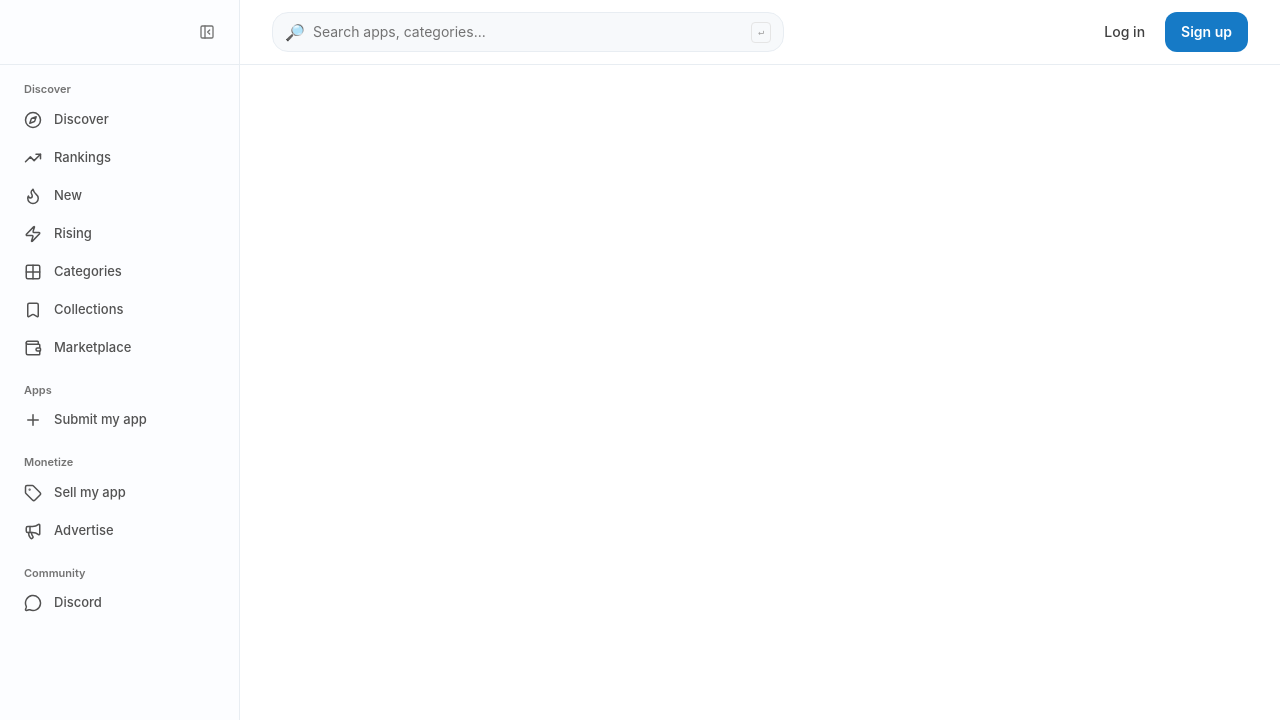
Test case: Sidebar destinations › places the collapse control in the logo row and keeps expansion available
Click the button named "Collapse sidebar": click(207, 32) x1=191 y1=16 x2=223 y2=48
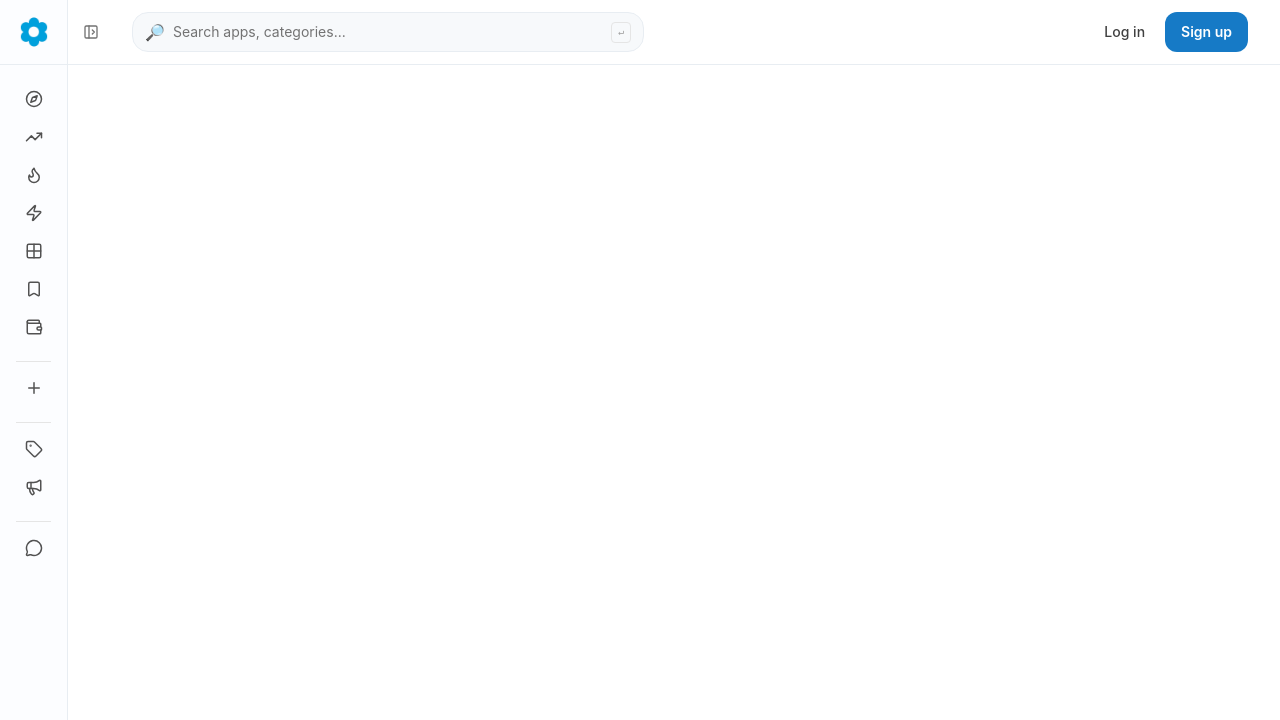
Check: the button named "Expand sidebar" has class "left-full"
Click the button named "Expand sidebar": click(91, 32) x1=75 y1=16 x2=107 y2=48
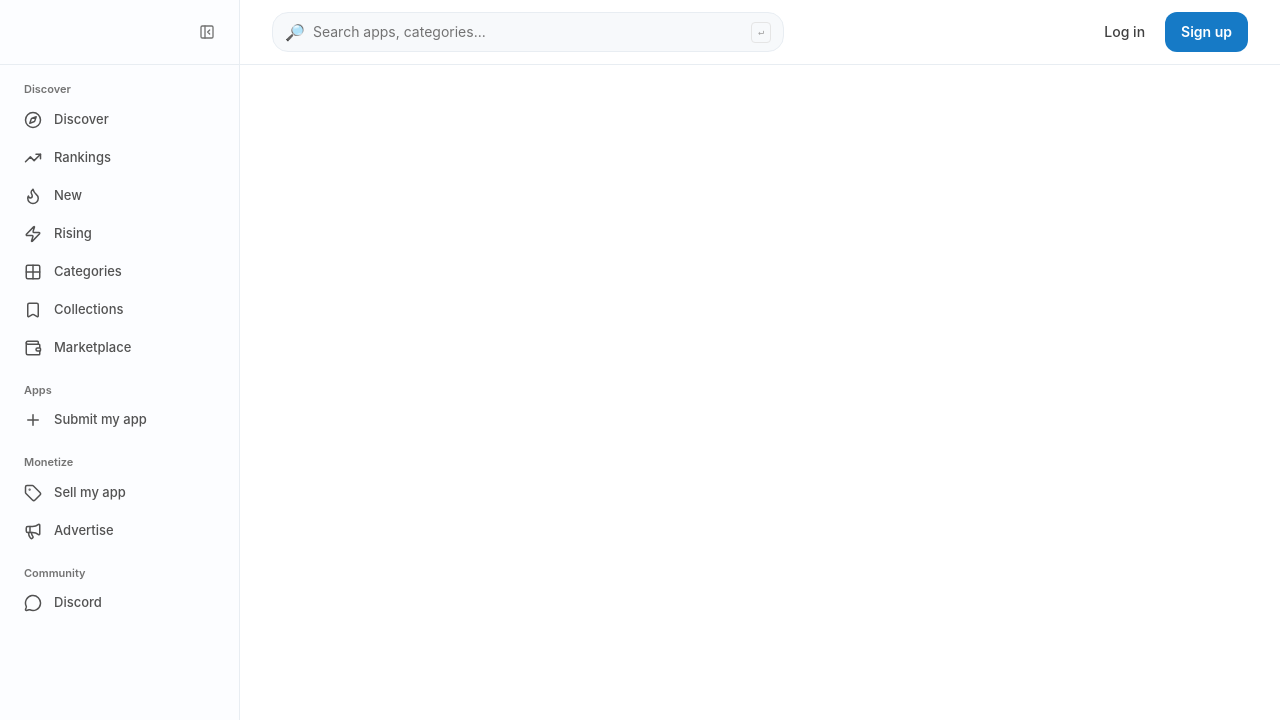
Check: the button named "Collapse sidebar" is shown, box x1=191 y1=16 x2=223 y2=48
